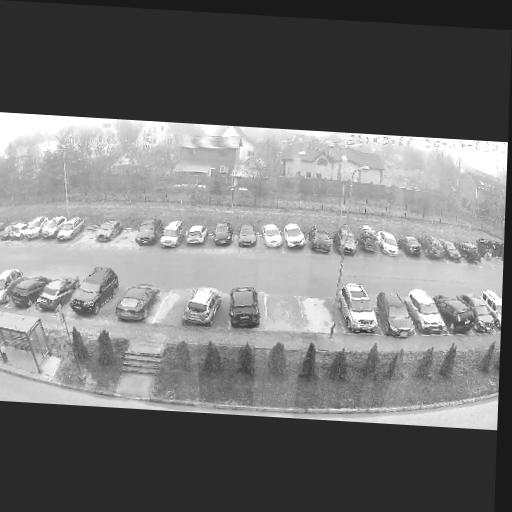busy: (70, 267, 117, 319), (221, 284, 268, 333), (338, 283, 383, 334), (403, 287, 448, 336), (375, 292, 414, 340), (114, 282, 158, 324), (437, 294, 480, 335), (179, 287, 222, 327), (32, 277, 73, 313), (471, 289, 502, 333), (8, 275, 44, 309), (305, 224, 337, 255), (91, 217, 126, 244), (280, 222, 312, 251), (331, 228, 363, 257), (49, 217, 85, 242), (131, 218, 161, 248), (207, 221, 238, 248), (257, 223, 286, 251), (156, 221, 185, 249), (374, 232, 404, 257), (451, 240, 482, 264), (0, 269, 20, 306), (420, 236, 449, 260), (395, 236, 425, 259), (181, 225, 209, 249), (21, 216, 49, 240), (0, 218, 28, 242), (233, 224, 260, 248), (476, 241, 502, 264), (440, 236, 461, 264), (357, 231, 381, 254), (0, 220, 12, 240)
free: (302, 298, 338, 330), (159, 289, 189, 325), (268, 300, 304, 329), (80, 229, 101, 245), (120, 230, 138, 245)
